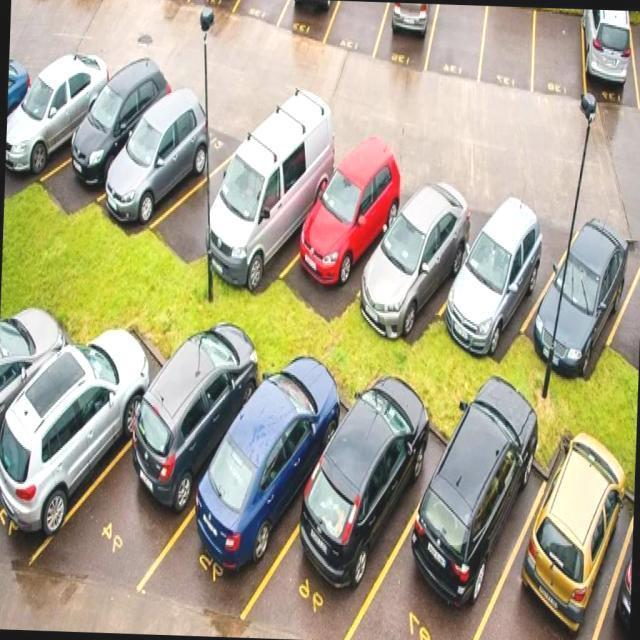space-empty: (175, 117, 266, 279), (528, 8, 584, 113), (426, 4, 488, 95), (612, 219, 640, 374), (485, 6, 537, 88), (325, 0, 393, 58), (627, 15, 640, 122), (242, 0, 297, 24)
space-occupied: (101, 312, 250, 585), (285, 373, 434, 633), (187, 346, 336, 606), (0, 320, 150, 572), (386, 392, 536, 640), (514, 435, 635, 640), (53, 49, 166, 230), (357, 158, 475, 331), (216, 112, 330, 284), (0, 283, 66, 528), (106, 91, 207, 248), (526, 203, 631, 351), (5, 52, 108, 202), (446, 199, 554, 340), (297, 158, 392, 308), (584, 9, 635, 126), (601, 473, 636, 640), (375, 2, 432, 77), (6, 23, 27, 179), (288, 0, 345, 44)
